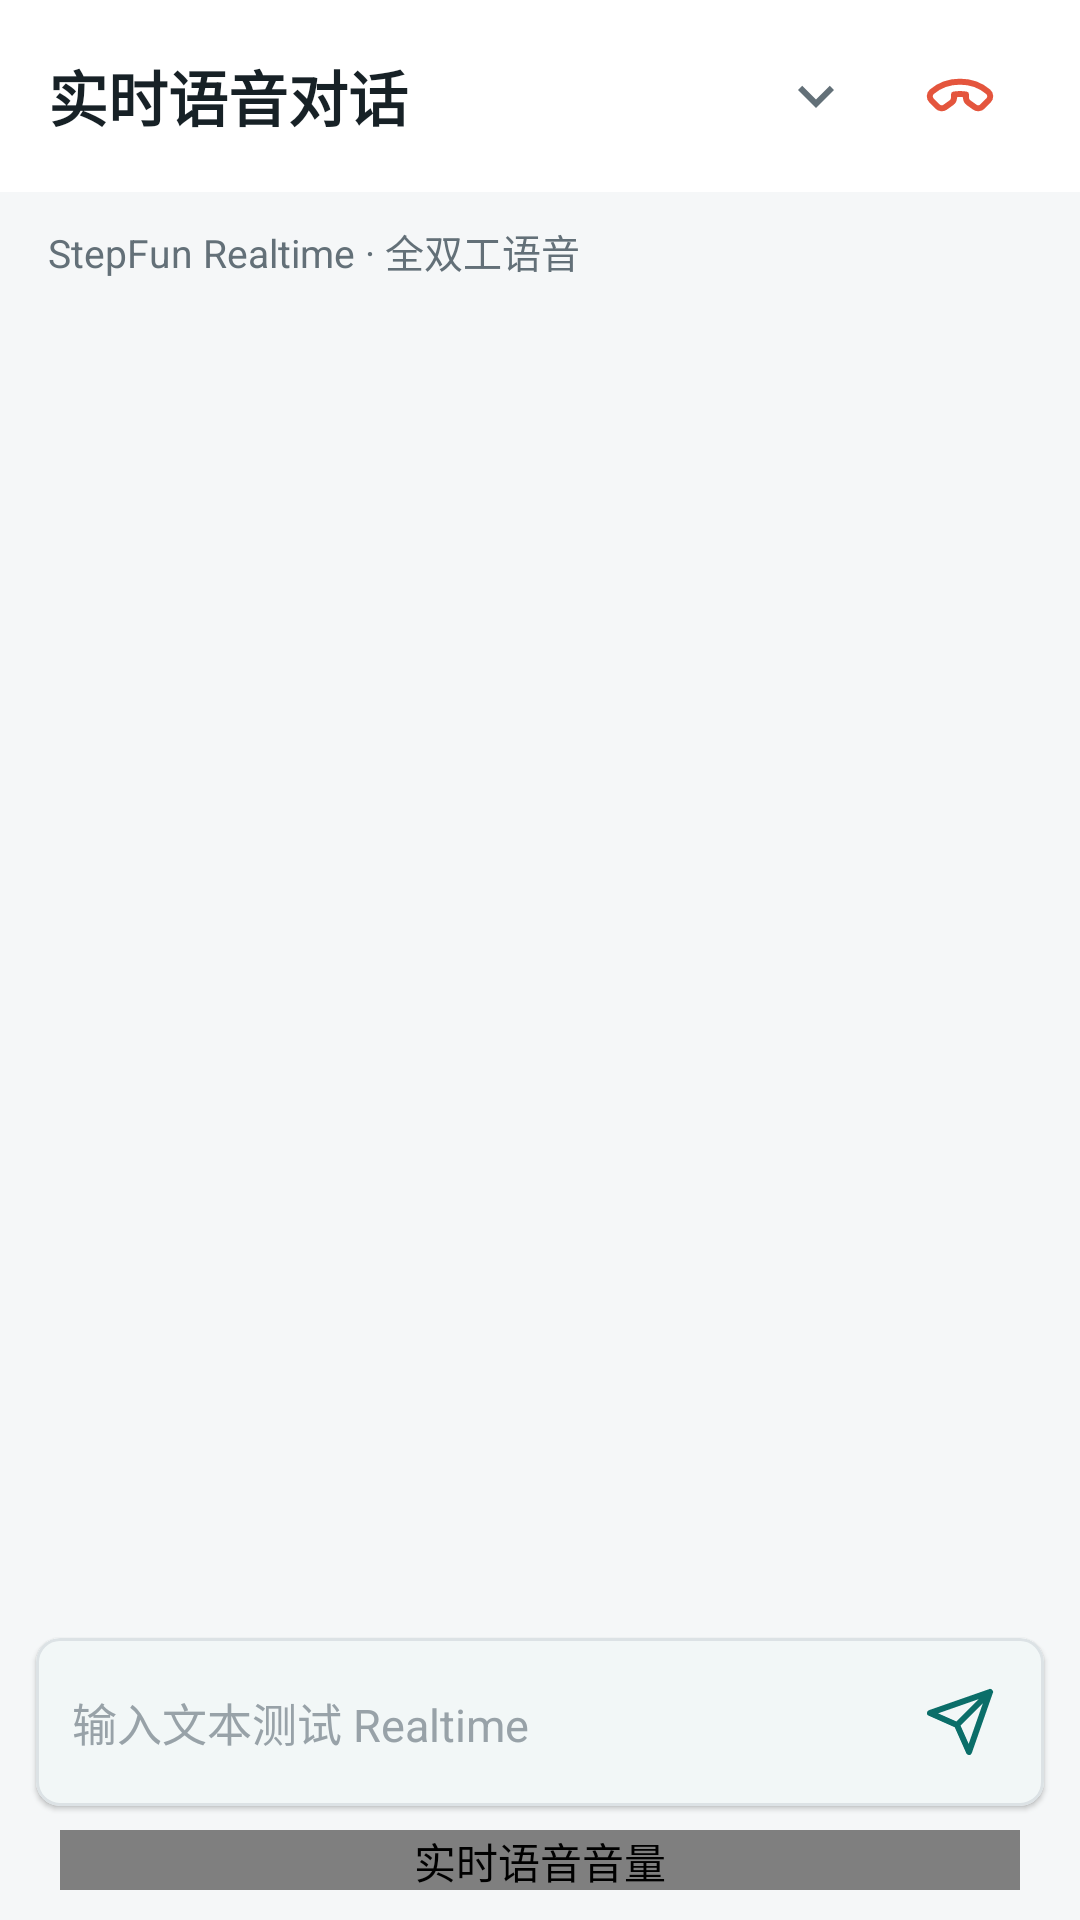

Screen size 1080 × 1920. Icon name, then its box in pixels as box=[x1, y1, x2, y2]:
发送文本: box=[927, 1689, 993, 1755]
结束实时语音: box=[926, 78, 994, 112]
隐藏实时语音界面: box=[798, 86, 834, 108]
